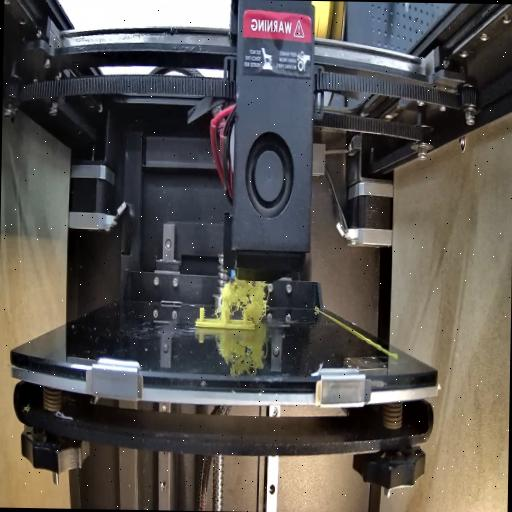spaghetti: (216, 276, 272, 322)
